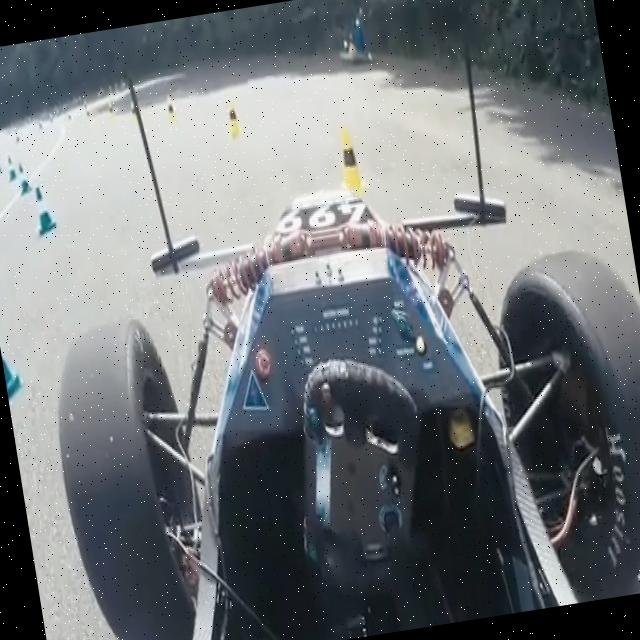blue_cone: (0, 295, 30, 413), (31, 184, 58, 239), (16, 160, 34, 196)
yellow_cone: (332, 124, 370, 200), (223, 98, 244, 138)
